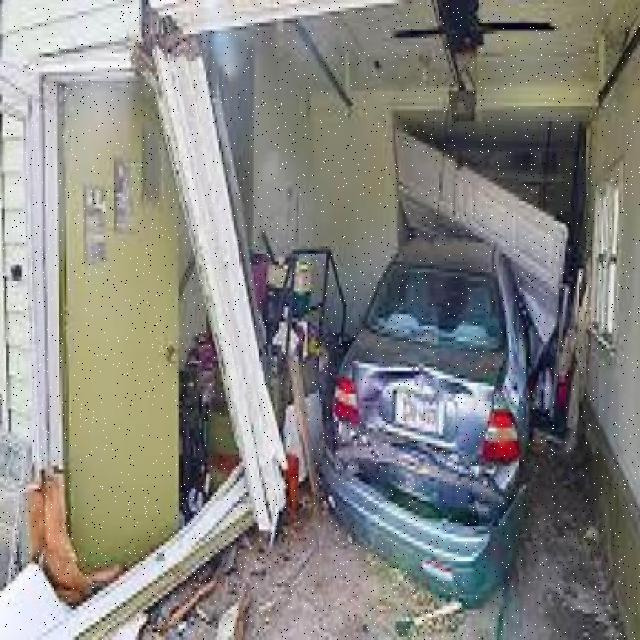damage: (330, 364, 520, 574)
